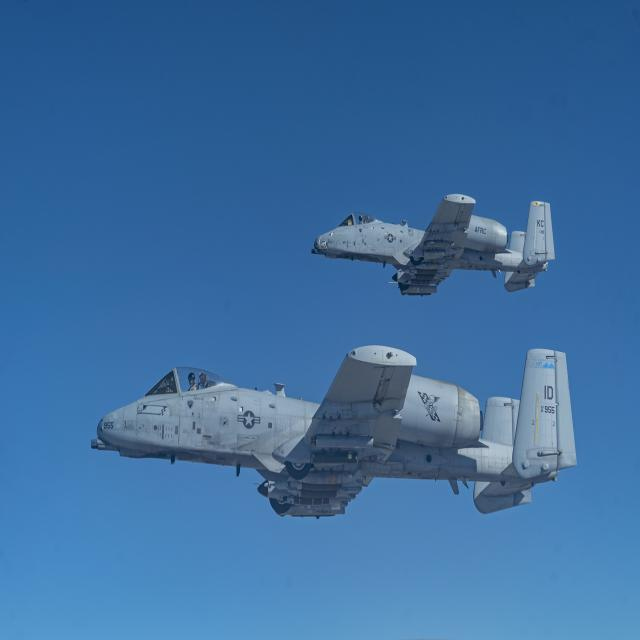MIL_Plane: (91, 345, 577, 520), (311, 193, 555, 297)
